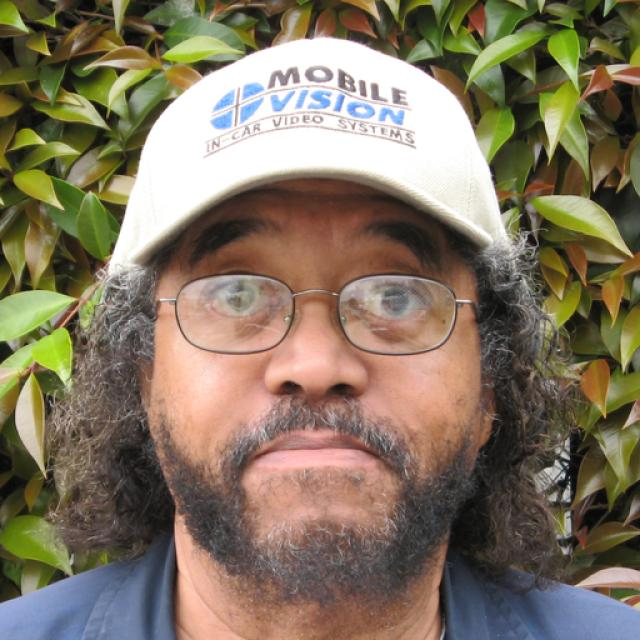Dark Circle: (347, 312, 426, 347), (190, 312, 273, 344)
